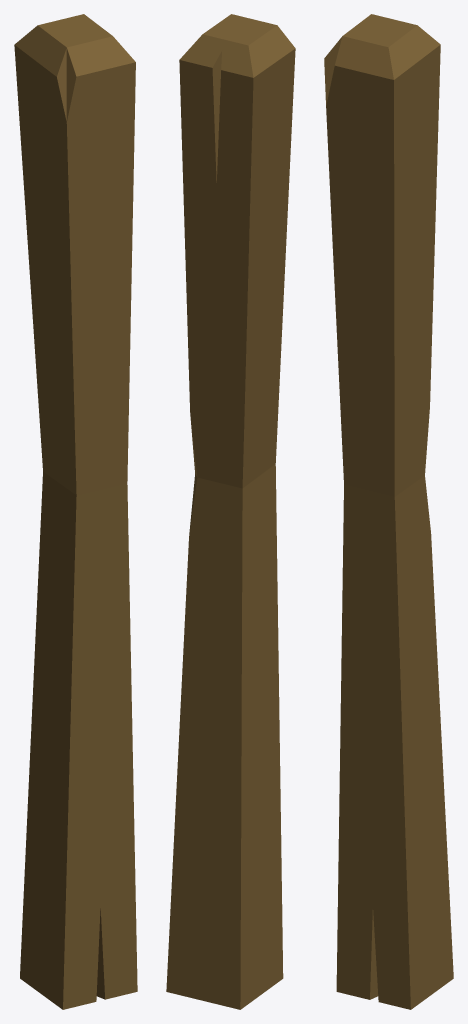
File: post.glb
3 views of the same model, side by side, from view 1: azimuth 30°, elevation 25°; view 2: azimuth 150°, elevation 25°; view 3: azimuth 330°, elevation 25° (orthographic).
Parts seen in each view (by area): view 1: Cube; view 2: Cube; view 3: Cube.
Boxes of the visible parts, x1,y1,x2,y2 form: Cube: (14, 14, 137, 1009); Cube: (166, 14, 295, 1009); Cube: (324, 14, 453, 1009).
Bounding box in the file's own units: 0.3723 × 4.07 × 0.39.
